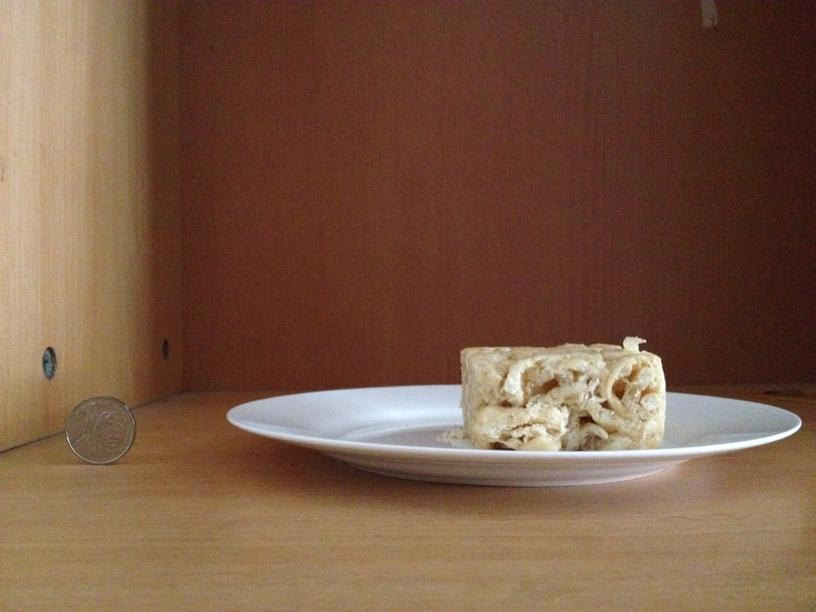coin: (65, 394, 134, 465)
sachima: (456, 339, 666, 449)
